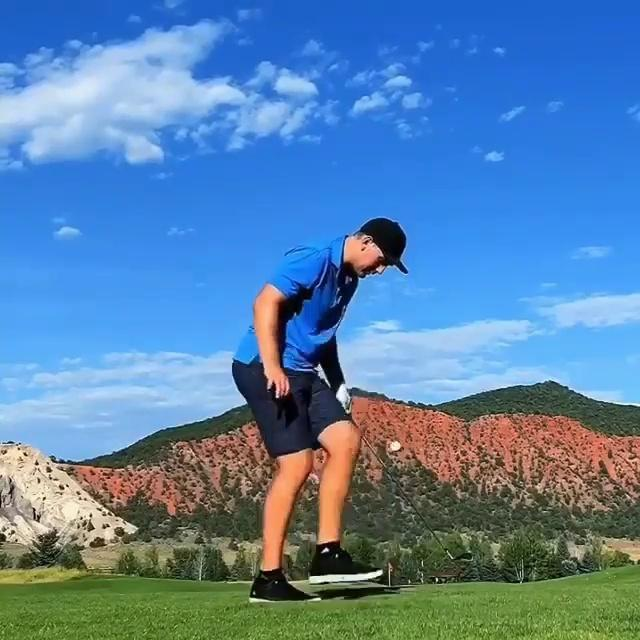ClubHandle: (355, 433, 474, 568)
ClubHead: (452, 554, 476, 564)
GolfBall: (388, 440, 403, 455)
